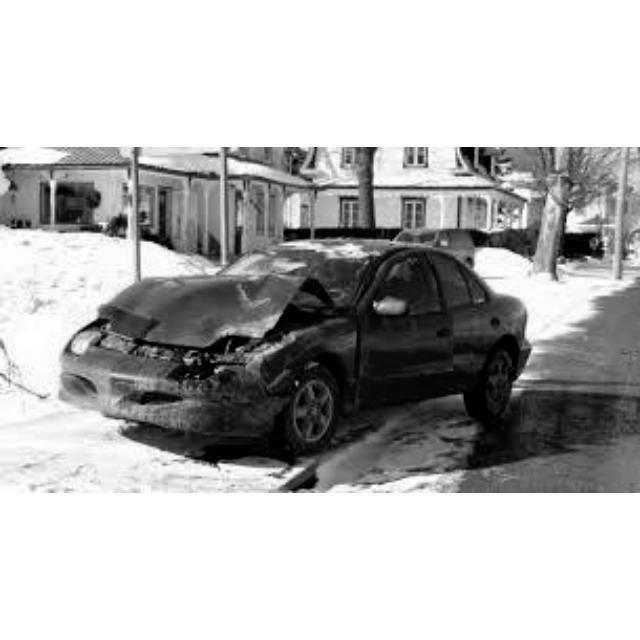Headlight-damage: (169, 343, 240, 384)
bonnet-dent: (112, 265, 305, 338)
front-bumper-dent: (74, 364, 243, 426)
roof-dent: (277, 242, 423, 260)
